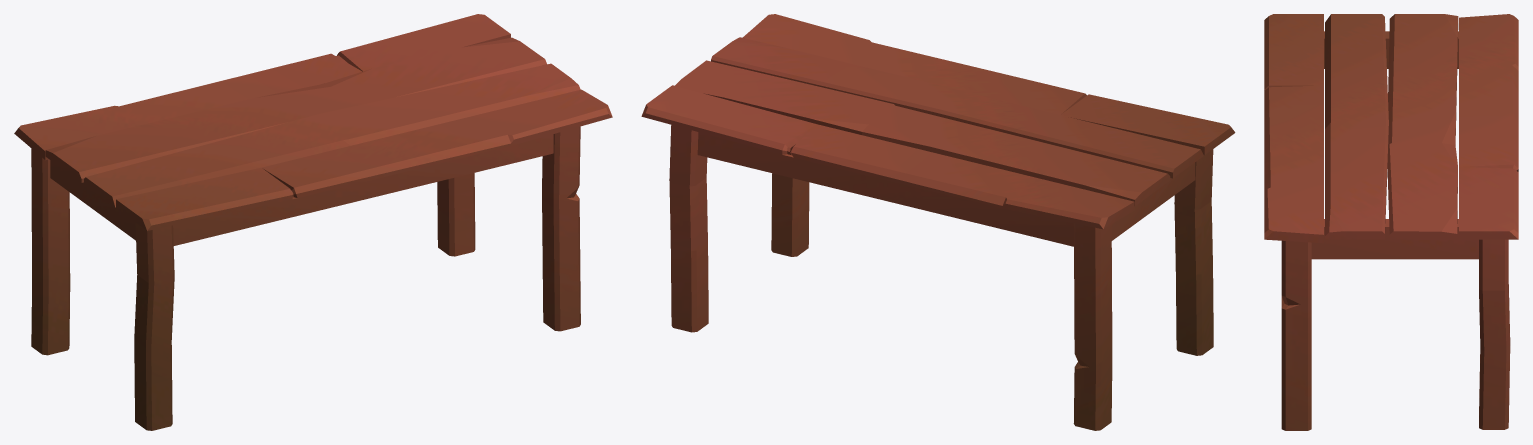
3 views of the same model, side by side, from view 1: azimuth 30°, elevation 25°; view 2: azimuth 150°, elevation 25°; view 3: azimuth 270°, elevation 25° (orthographic). The views are drawn at different scales.
Parts seen in each view (by area): view 1: WoodenTable; view 2: WoodenTable; view 3: WoodenTable.
Boxes of the visible parts, bbox=[...] form: WoodenTable: bbox=[14, 14, 612, 430]; WoodenTable: bbox=[641, 14, 1235, 430]; WoodenTable: bbox=[1264, 14, 1518, 430].
Size of the model in its own units: 1.79 by 0.8183 by 0.8845.
Materials: 1 (1 with a texture image).
